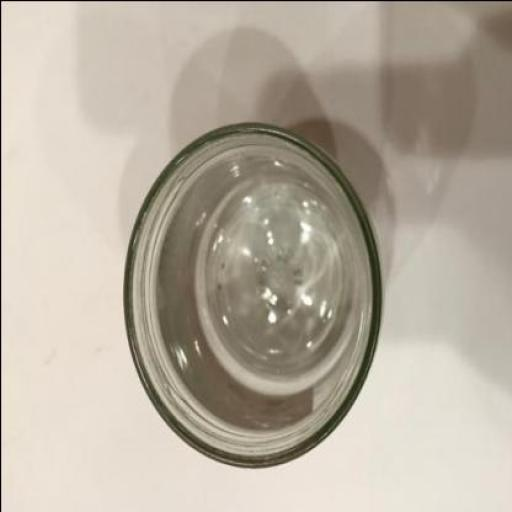glass: (121, 120, 380, 468)
